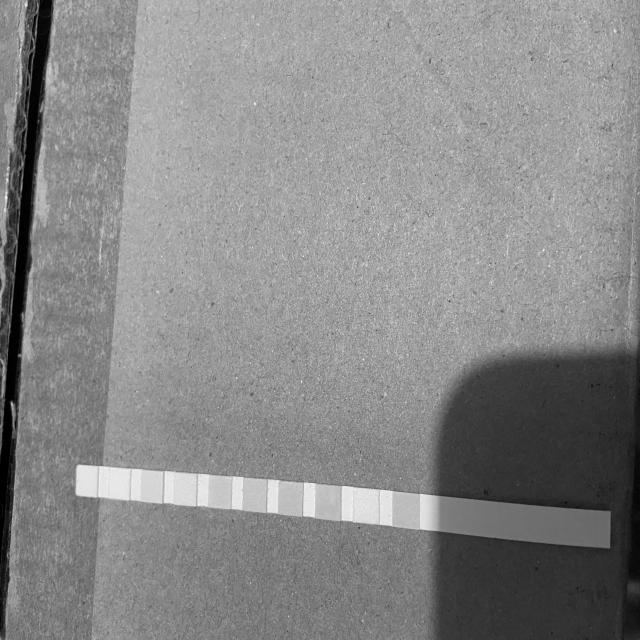Bilirubin: (353, 489, 379, 523)
Blood: (244, 479, 266, 511)
Glucose: (393, 494, 419, 528)
Ketone: (314, 486, 340, 520)
Leukocytes: (78, 466, 98, 496)
Nitrite: (111, 469, 130, 499)
Protein: (175, 474, 196, 505)
SpGravity: (278, 483, 302, 515)
Urobilinogen: (142, 471, 163, 502)
background: (0, 0, 640, 640)
pH: (210, 476, 232, 508)
strip: (75, 464, 611, 549)
